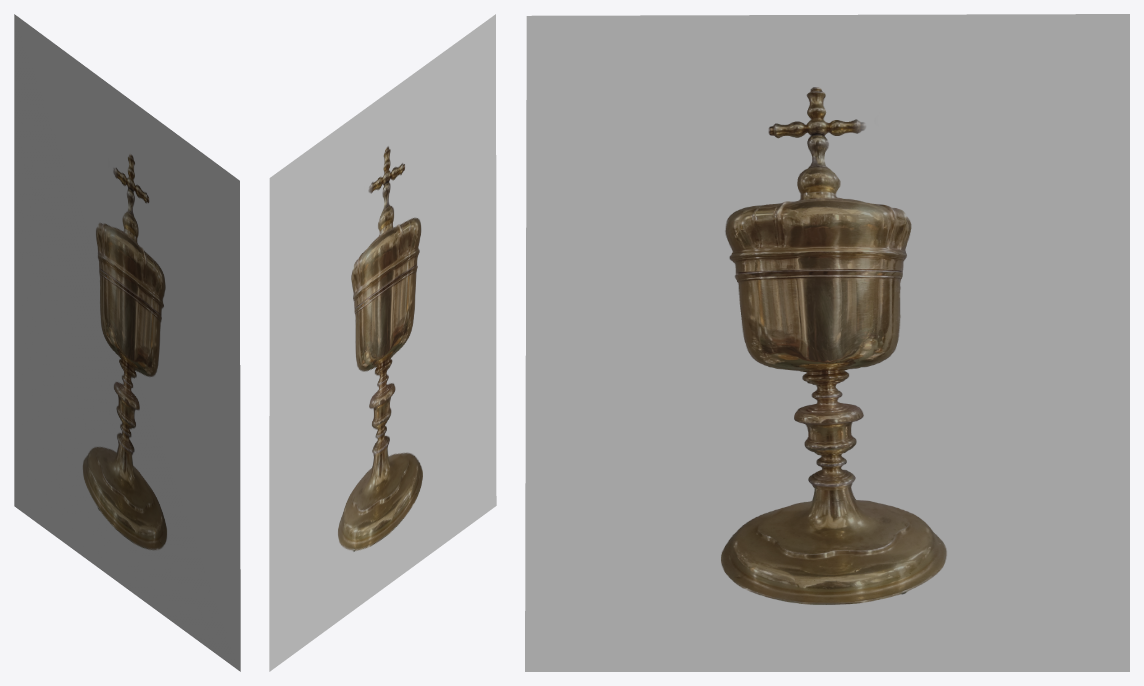
The model's file is 63 - puszka mszalna.glb.
The picture shows the model from 3 angles, left to right: view 1: azimuth 30°, elevation 25°; view 2: azimuth 150°, elevation 25°; view 3: azimuth 270°, elevation 25°; orthographic projection. The views are drawn at different scales.
Parts seen in each view (by area): view 1: Plane; view 2: Plane; view 3: Plane.
Part boxes in pixels (box(x1,y1,x2,y2)): Plane: box(14, 14, 240, 671); Plane: box(269, 14, 496, 671); Plane: box(525, 14, 1129, 671).
Size of the model in its own units: 0.00822 by 24 by 20.
Materials: 1 (1 with a texture image).
